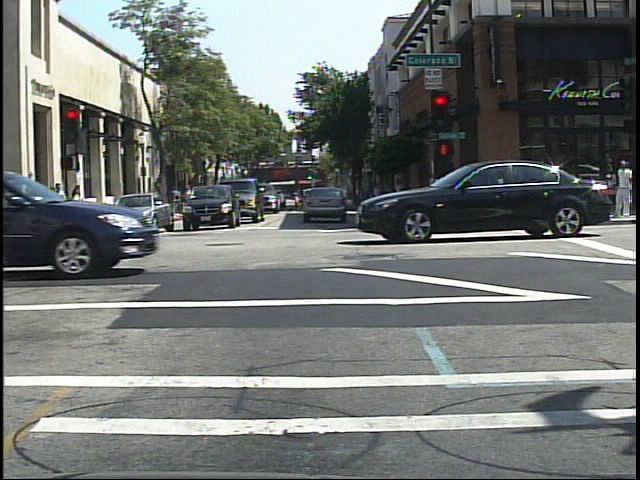person: (612, 157, 638, 221), (171, 184, 183, 216)
